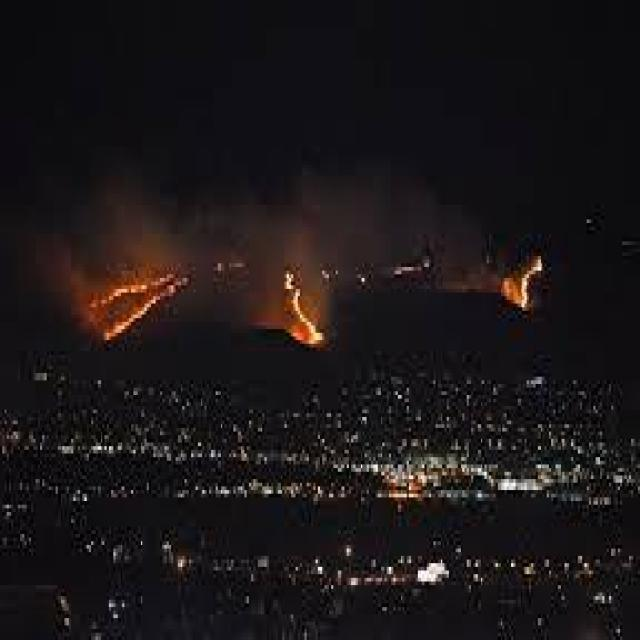Fire: (81, 256, 195, 358), (262, 248, 342, 358), (484, 227, 555, 329)
